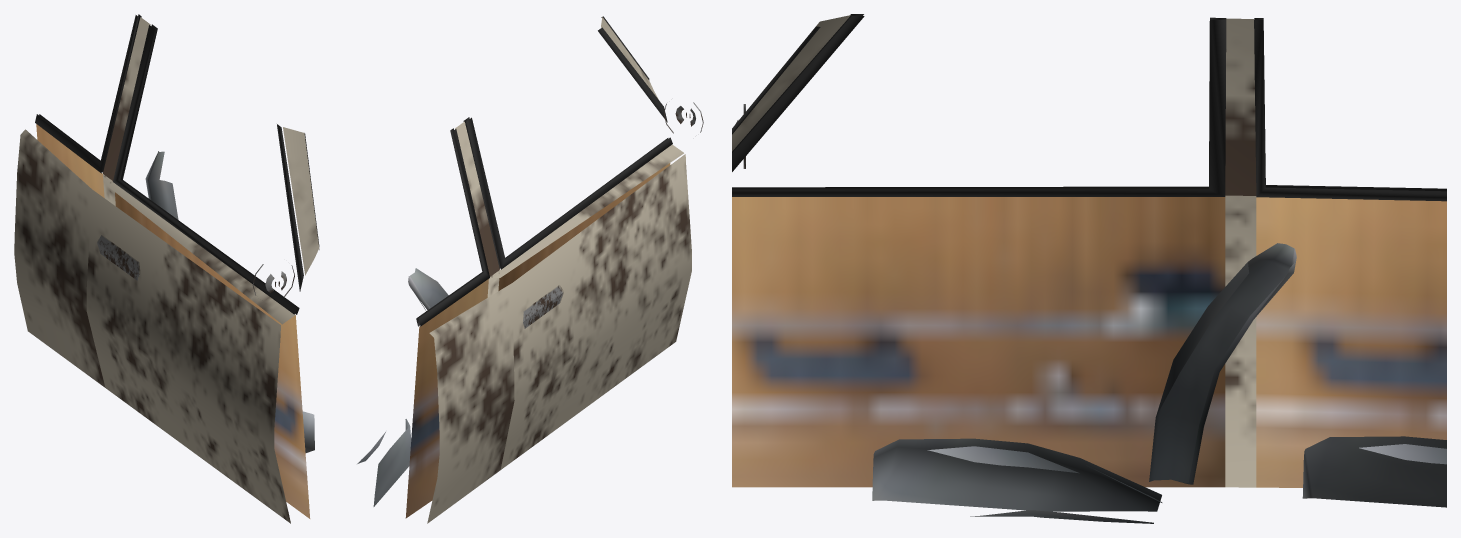
Rendered from left.glb.
3 renders of one model, left to right at view 1: azimuth 30°, elevation 25°; view 2: azimuth 150°, elevation 25°; view 3: azimuth 270°, elevation 25°, orthographic. The views are drawn at different scales.
Size of the model in its own units: 0.3198 by 1 by 1.34.
Materials: 1 (1 with a texture image).
